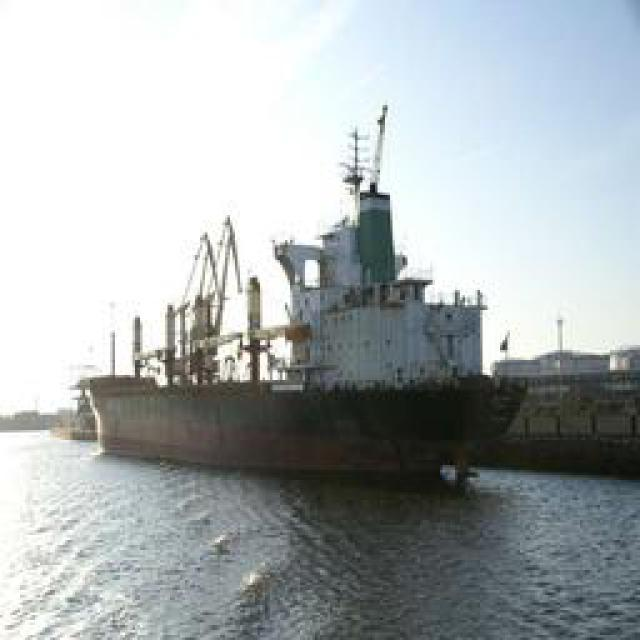Ship: (88, 109, 523, 469)
